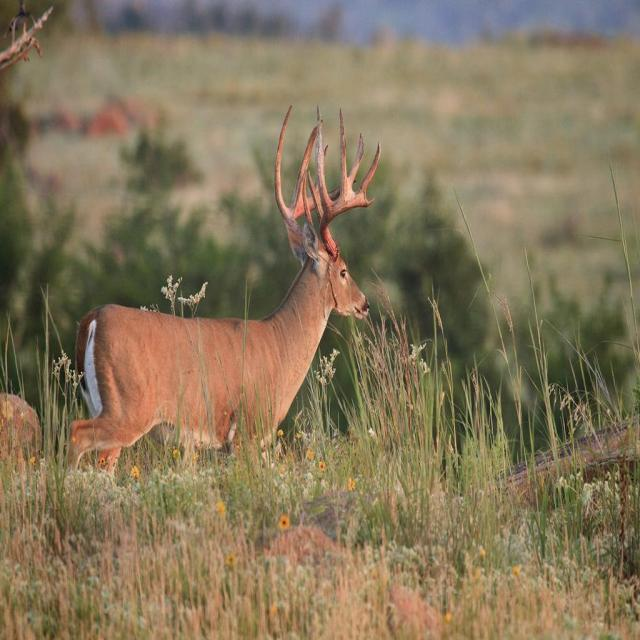Deer: (63, 103, 381, 487)
